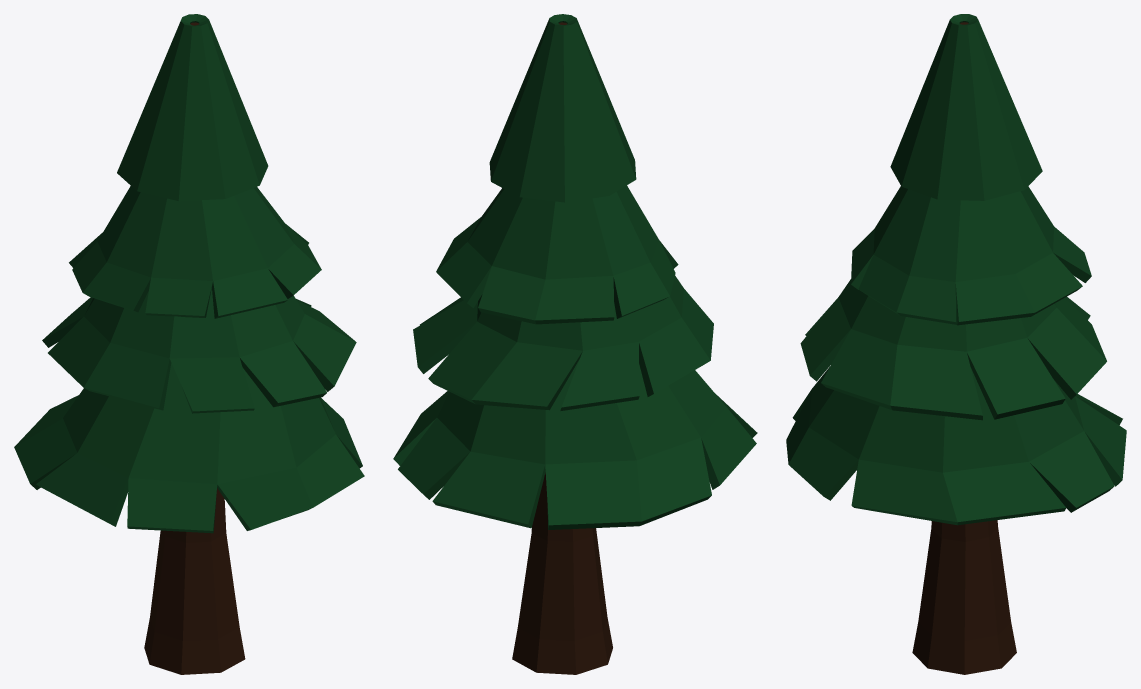
File: PineTreeModel.obj
The picture shows the model from 3 angles, left to right: view 1: azimuth 30°, elevation 25°; view 2: azimuth 150°, elevation 25°; view 3: azimuth 270°, elevation 25°; orthographic projection.
Parts seen in each view (by area): view 1: Circle; view 2: Circle; view 3: Circle.
Boxes of the visible parts, x1,y1,x2,y2 form: Circle: (14, 14, 364, 674); Circle: (393, 14, 757, 674); Circle: (786, 14, 1126, 674).
Bounding box in the file's own units: 4.58 × 9.14 × 4.46.
